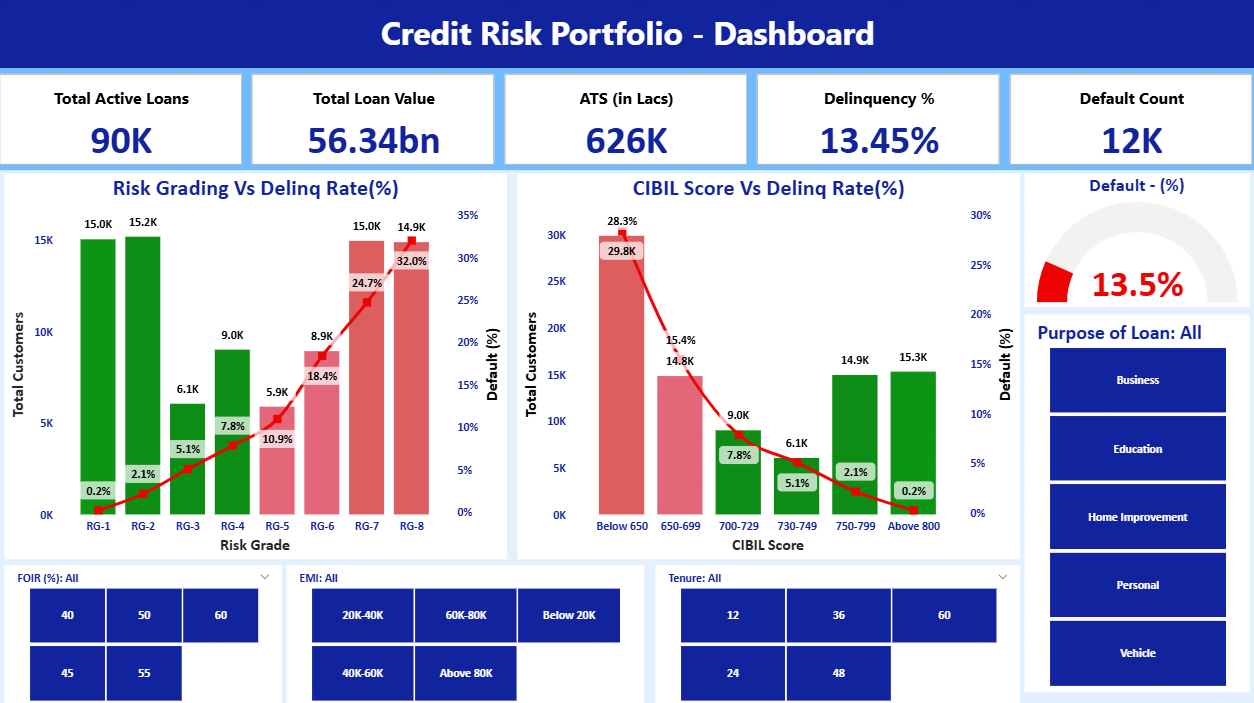

What the dashboard file says about the page in this screenshot:
{"tool":"powerbi","page":{"name":"Page 1","canvas":[1280,720],"ordinal":0},"visuals":[{"type":"textbox","box":[10,0,280,280],"z":0},{"type":"shape","box":[0,0,1279.5,719.2],"z":1000},{"type":"shape","box":[0,0,1279.5,74.2],"z":2000},{"type":"cardVisual","fields":{"Data":["Data.Total Customers","Data.Total Loan Amount","Data.ATS","Data.Delinquency %","Data.Default Count"]},"box":[0,74.2,1279.5,103],"z":3000},{"type":"lineClusteredColumnComboChart","title":"Risk Grading Vs Delinq Rate(%)","fields":{"Category":["Data.risk_grade"],"Y":["CountNonNull(Data.loan_id)"],"Y2":["Data.Default (%)"]},"box":[10.6,180.2,507.3,389.2],"z":4000},{"type":"lineClusteredColumnComboChart","title":"CIBIL Score Vs Delinq Rate(%)","fields":{"Y":["CountNonNull(Data.loan_id)"],"Y2":["Data.Default (%)"],"Category":["Data.cibil_score_bins"]},"box":[528.5,180.2,507.3,389.2],"z":5000},{"type":"gauge","title":"Default - (%)","fields":{"Y":["Data.Default (%)"]},"box":[1040.3,180.2,227.1,134.8],"z":6000},{"type":"slicer","fields":{"Values":["Data.purpose_of_loan"]},"box":[1040.3,322.5,227.1,381.6],"z":7000},{"type":"slicer","fields":{"Values":["Data.foir"]},"box":[10.6,575.4,280.1,143.8],"z":8000},{"type":"slicer","fields":{"Values":["Data.monthly_income_bins"]},"box":[295.3,575.4,360.4,143.8],"z":8001},{"type":"slicer","fields":{"Values":["Data.tenure"]},"box":[667.8,575.4,368,143.8],"z":8002}]}

Visuals, with their boxes in screenshot pixels (x1, y1, x2, y2), scaled from the page's 1280x720 canvas onto the 1254x703 screenshot:
textbox: 10,0,284,273
shape: 0,0,1253,702
shape: 0,0,1253,72
cardVisual - Data.Total Customers x Data.Total Loan Amount: 0,72,1253,173
"Risk Grading Vs Delinq Rate(%)" lineClusteredColumnComboChart: 10,176,507,556
"CIBIL Score Vs Delinq Rate(%)" lineClusteredColumnComboChart: 518,176,1015,556
"Default - (%)" gauge: 1019,176,1242,308
slicer - Data.purpose_of_loan: 1019,315,1242,687
slicer - Data.foir: 10,562,285,702
slicer - Data.monthly_income_bins: 289,562,642,702
slicer - Data.tenure: 654,562,1015,702
